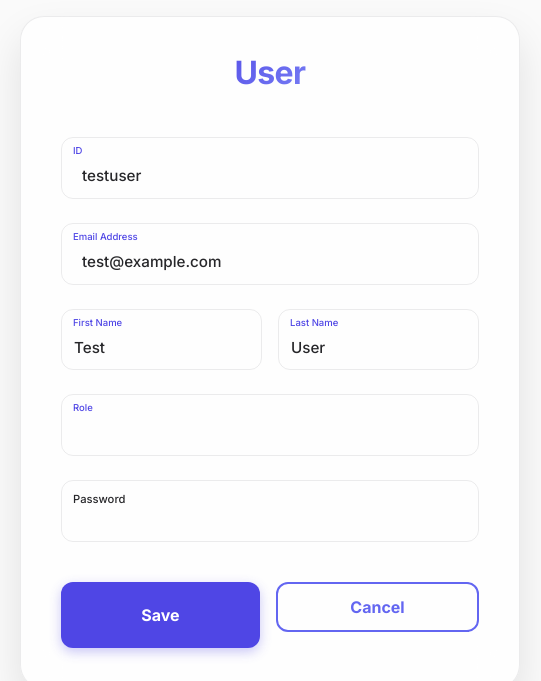
Test: User View › surfaces API errors returned in the response body
This screenshot has width=541, height=681.
Click the button "Save" at (160, 615), box left=61, top=582, right=260, bottom=648
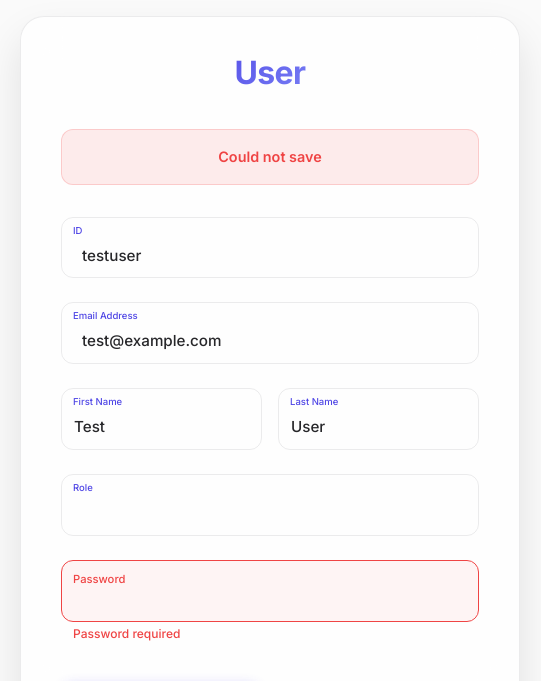
Expected: the text "Could not save" is shown, left=61, top=129, right=479, bottom=185
